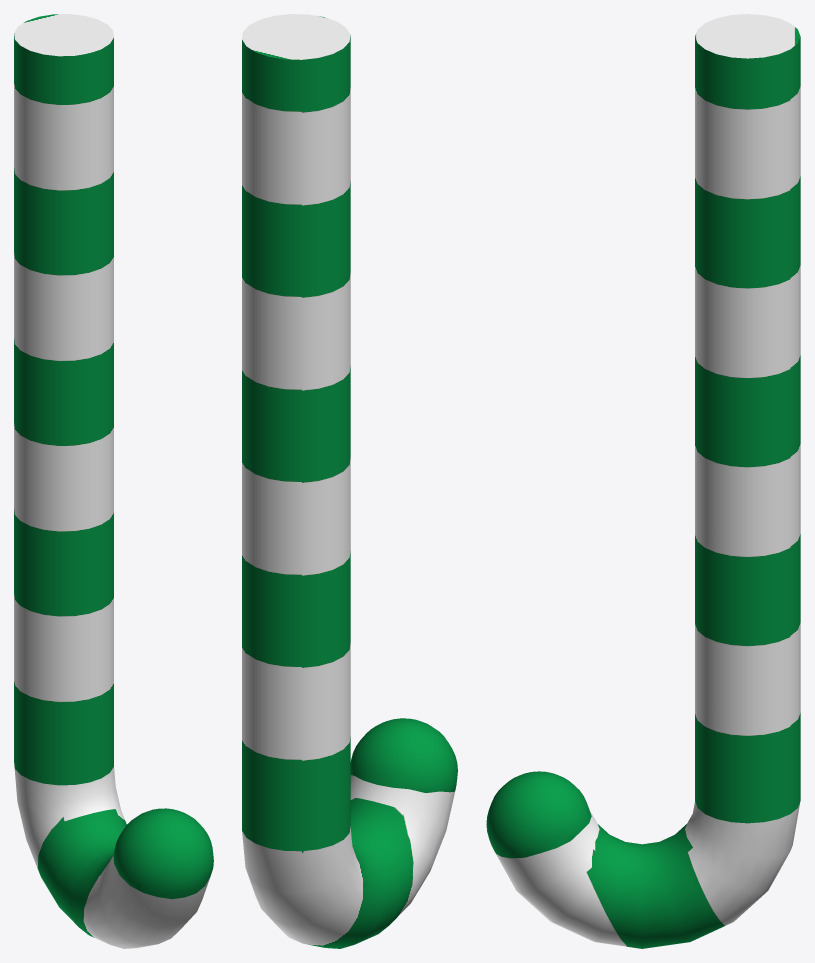
File: greenstick.fbx
3 views of the same model, side by side, from view 1: azimuth 30°, elevation 25°; view 2: azimuth 150°, elevation 25°; view 3: azimuth 270°, elevation 25° (orthographic). The views are drawn at different scales.
Visible parts, largest first — view 1: pSphere3; view 2: pSphere3; view 3: pSphere3.
Part boxes in pixels (x1=…): pSphere3: x1=14, y1=14, x2=213, y2=948; pSphere3: x1=242, y1=14, x2=457, y2=948; pSphere3: x1=486, y1=14, x2=800, y2=948.
Size of the model in its own units: 2.01 by 19 by 5.95.
1 material, 1 textured.
